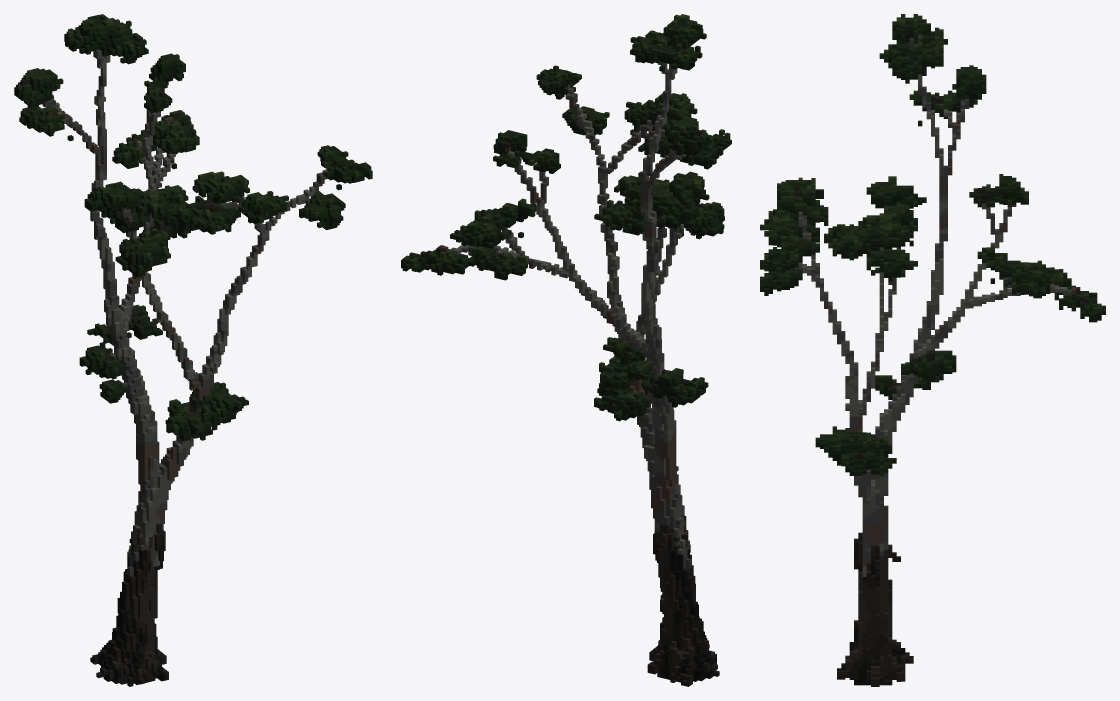
File: eucalipto_alto_02_LOD2.fbx
3 views of the same model, side by side, from view 1: azimuth 30°, elevation 25°; view 2: azimuth 150°, elevation 25°; view 3: azimuth 270°, elevation 25° (orthographic). The views are drawn at different scales.
Parts seen in each view (by area): view 1: eucalipto_alto_02_LOD2; view 2: eucalipto_alto_02_LOD2; view 3: eucalipto_alto_02_LOD2.
Boxes of the visible parts, x1,y1,x2,y2 form: eucalipto_alto_02_LOD2: (14,14,372,686); eucalipto_alto_02_LOD2: (401,14,731,686); eucalipto_alto_02_LOD2: (760,14,1105,686).
Size of the model in its own units: 888 by 2100 by 1012.
